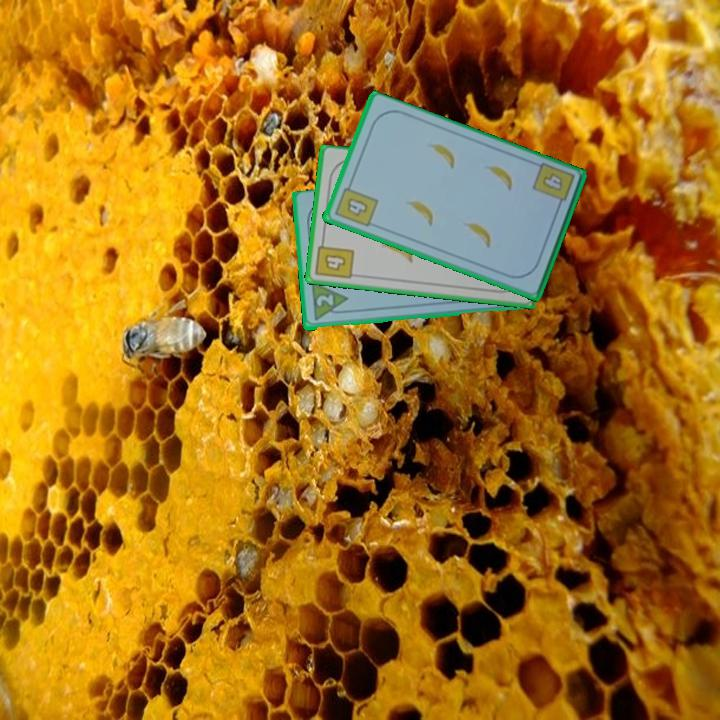2p: (308, 280, 351, 324)
4b: (330, 178, 380, 230), (529, 159, 577, 213), (312, 235, 357, 282)
